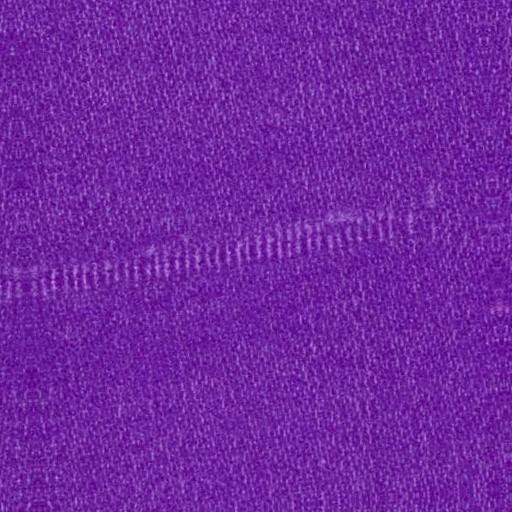slub: (3, 198, 429, 315)
